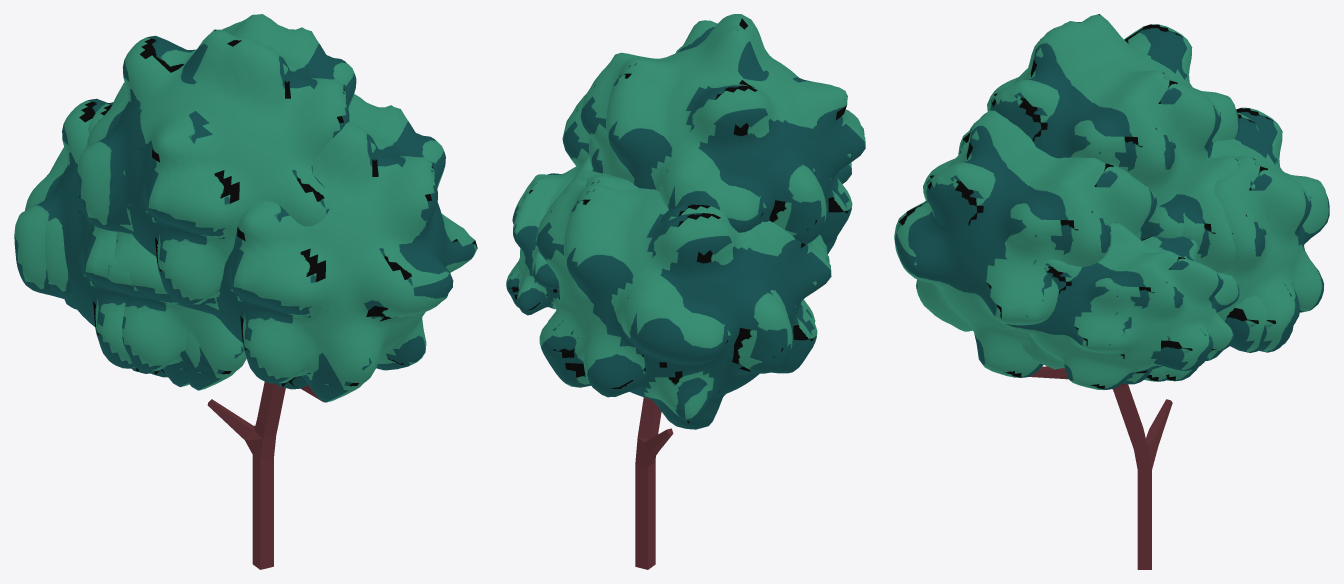
The model's file is TreeGhibliComplete.glb.
3 views of the same model, side by side, from view 1: azimuth 30°, elevation 25°; view 2: azimuth 150°, elevation 25°; view 3: azimuth 270°, elevation 25° (orthographic). The views are drawn at different scales.
Parts seen in each view (by area): view 1: Folliage (×4), Cube; view 2: Folliage (×5), Cube; view 3: Folliage (×5), Cube.
Part boxes in pixels (x1,y1,x2,y2): Folliage (×4): (14, 14, 477, 402); Cube: (207, 381, 324, 569); Folliage (×5): (506, 14, 865, 429); Cube: (635, 397, 673, 569); Folliage (×5): (894, 14, 1329, 390); Cube: (1029, 366, 1172, 569).
Size of the model in its own units: 4.91 by 8.02 by 6.09.
Materials: 2 (2 with a texture image).
